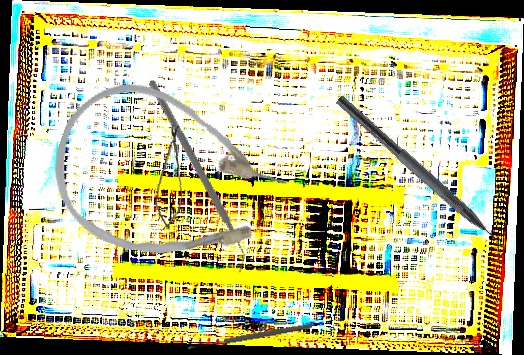Cannula: (33, 65, 302, 293)
Chopper: (89, 79, 302, 274), (325, 94, 515, 265)
Micro Scissor: (154, 122, 187, 233)
Surgical Spoon: (187, 322, 313, 351)
